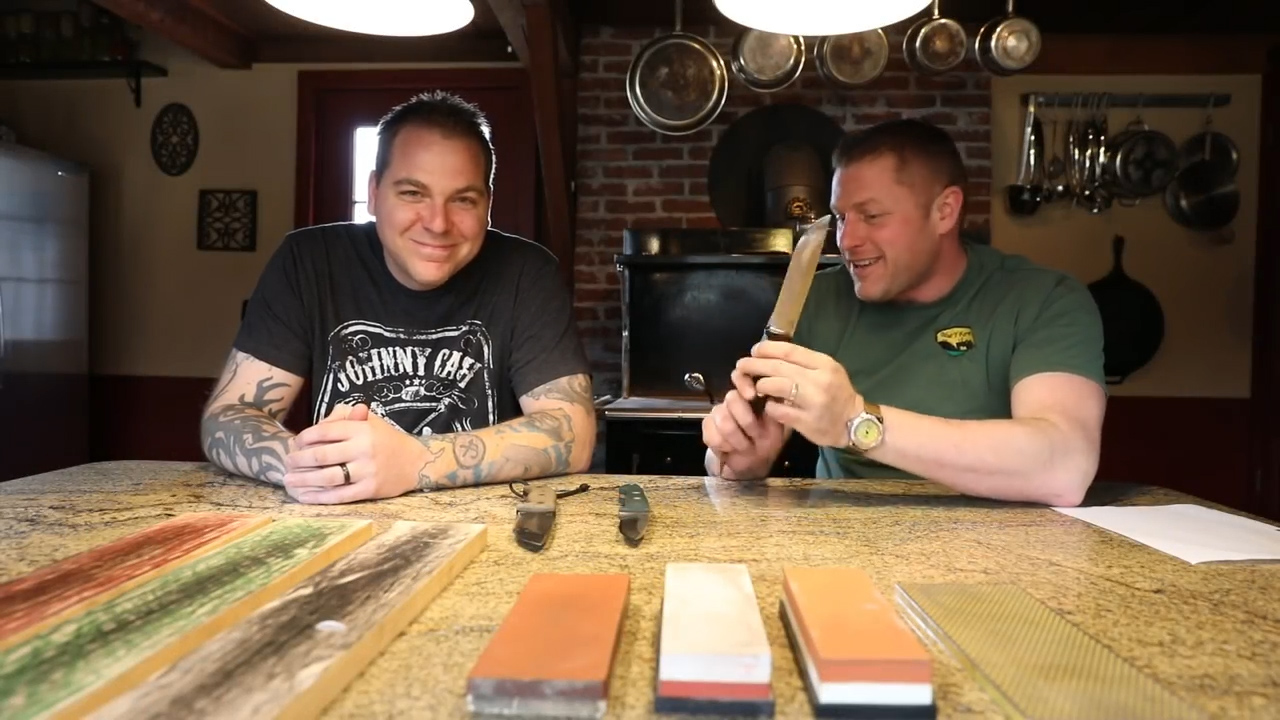knife: (720, 203, 849, 386)
